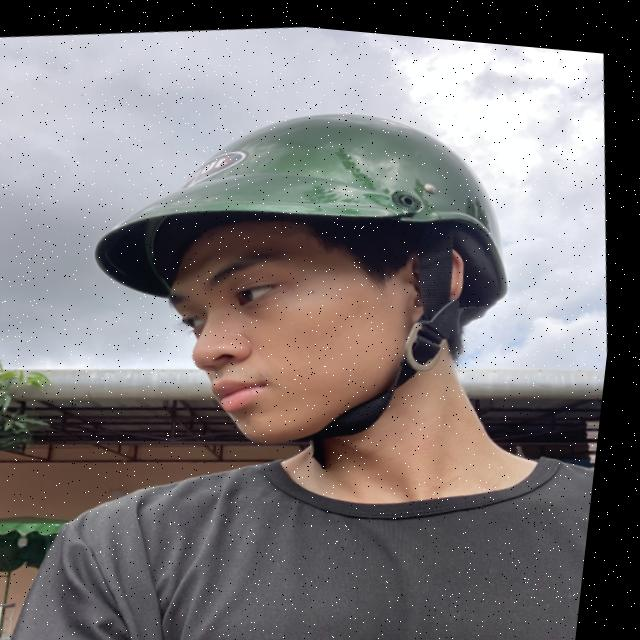helmet: (57, 63, 555, 481)
